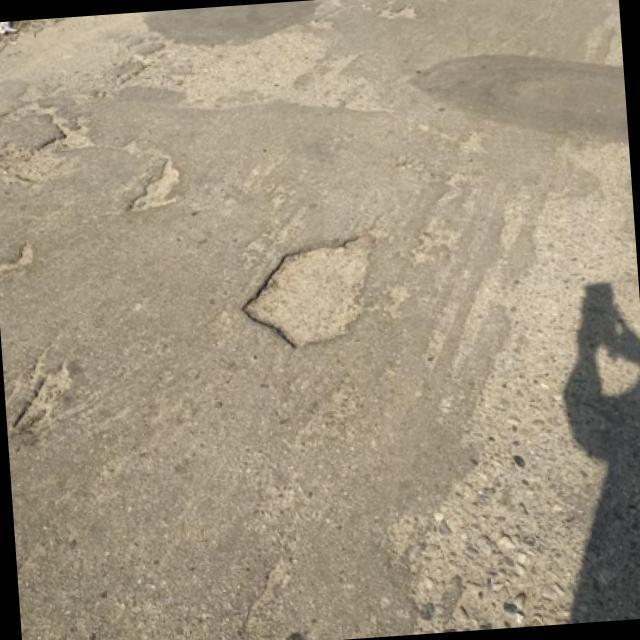Pothole: (244, 236, 370, 345)
